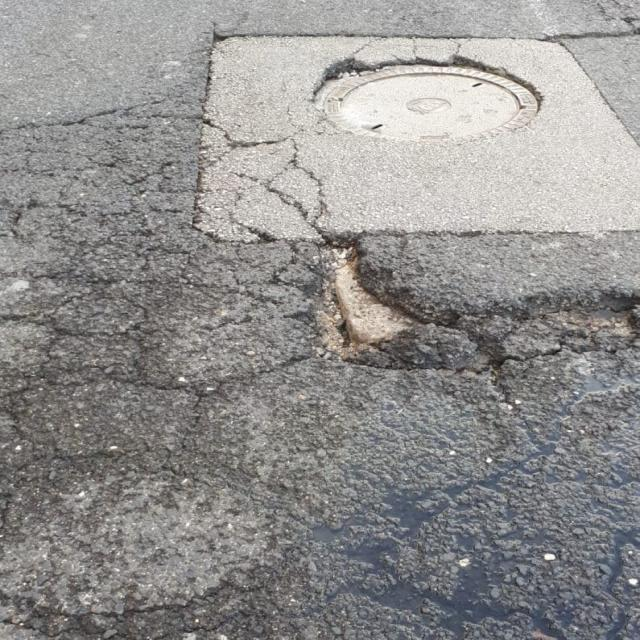major_pothole: (310, 236, 638, 368)
medium_pothole: (304, 54, 549, 144)
